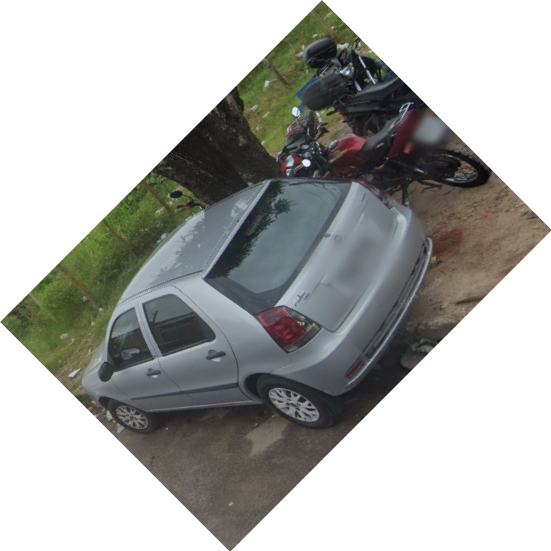car: (82, 173, 436, 430)
